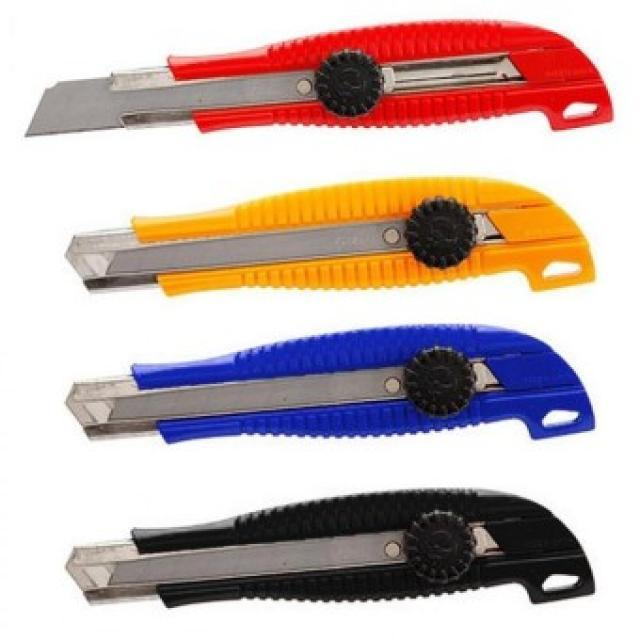cutter: (12, 12, 624, 148), (48, 468, 609, 615), (42, 165, 602, 306), (45, 326, 606, 457)
